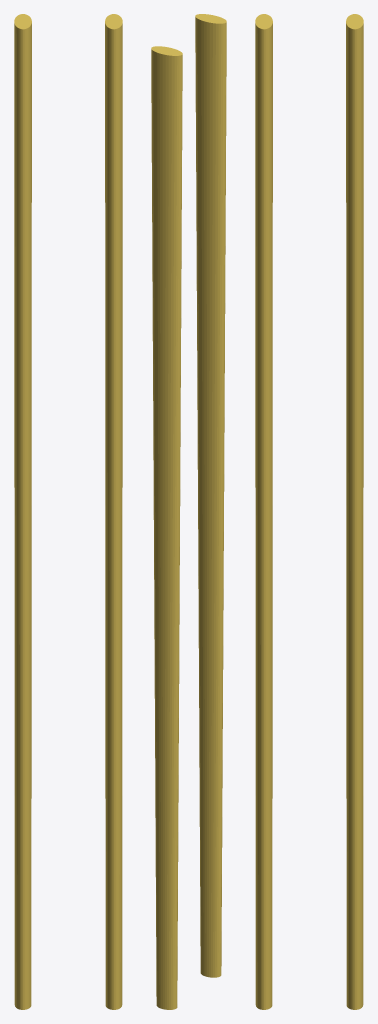
File: HOUTYOU.fbx
3 renders of one model, left to right at view 1: azimuth 90°, elevation 25°; view 2: azimuth 150°, elevation 25°; view 3: azimuth 270°, elevation 25°, orthographic. The views are drawn at different scales.
Parts seen in each view (by area): view 1: 円柱.001; view 2: 円柱.001; view 3: 円柱.001.
Part boxes in pixels (x1,y1,x2,y2): 円柱.001: (14, 14, 122, 1009); 円柱.001: (151, 14, 226, 1009); 円柱.001: (255, 14, 363, 1009).
Size of the model in its own units: 1 by 30 by 3.
